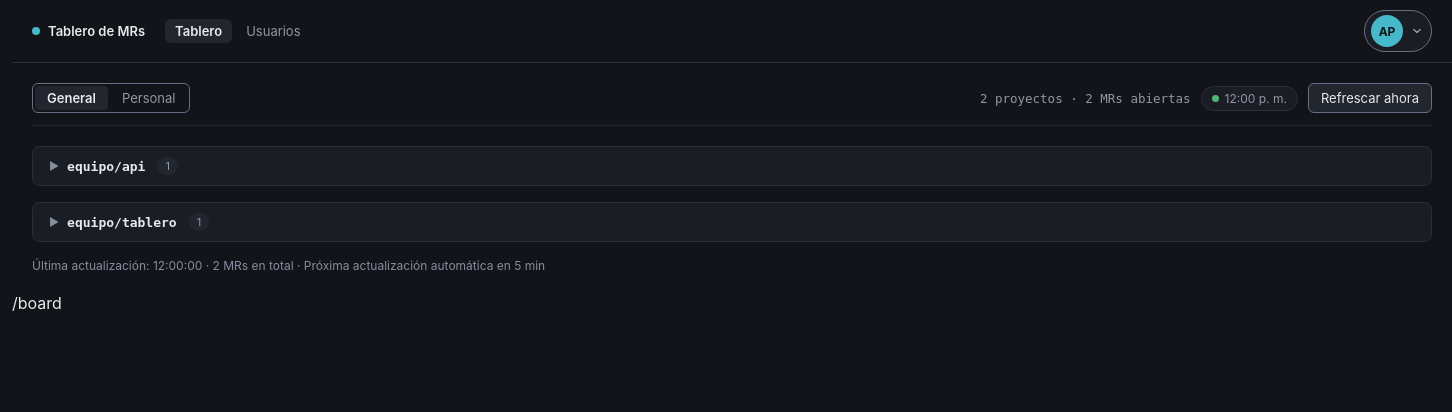
Scenario: vista personal de un administrador › muestra un estado vacío cuando la persona no tiene tareas
Step 1. Click the button "Personal" → (149, 98), box [110,86,188,110]
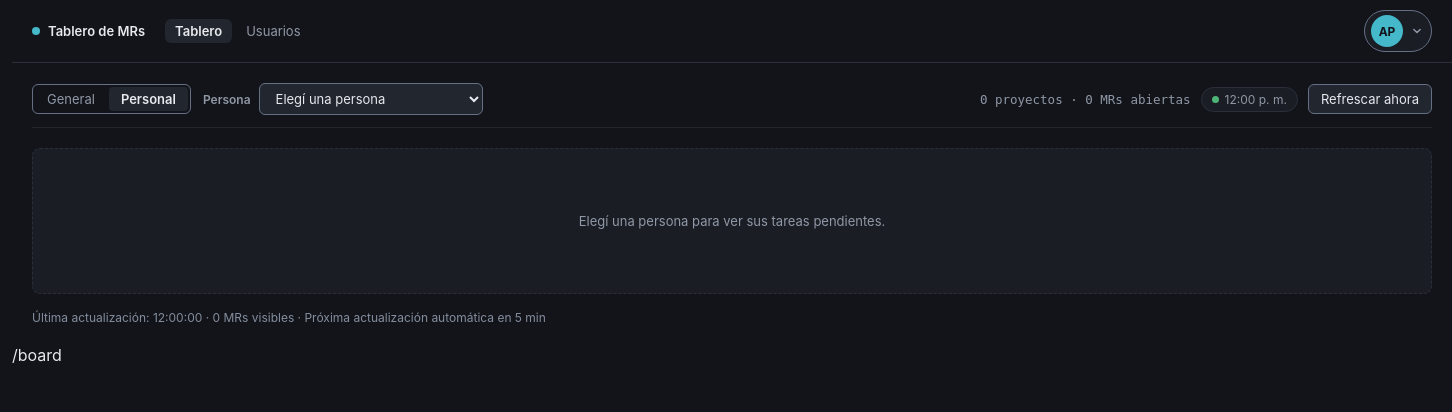
Step 2. Select "Beto Ruiz (@beto)" in the dropdown labelled "Persona" → (371, 99), box [259,83,483,115]
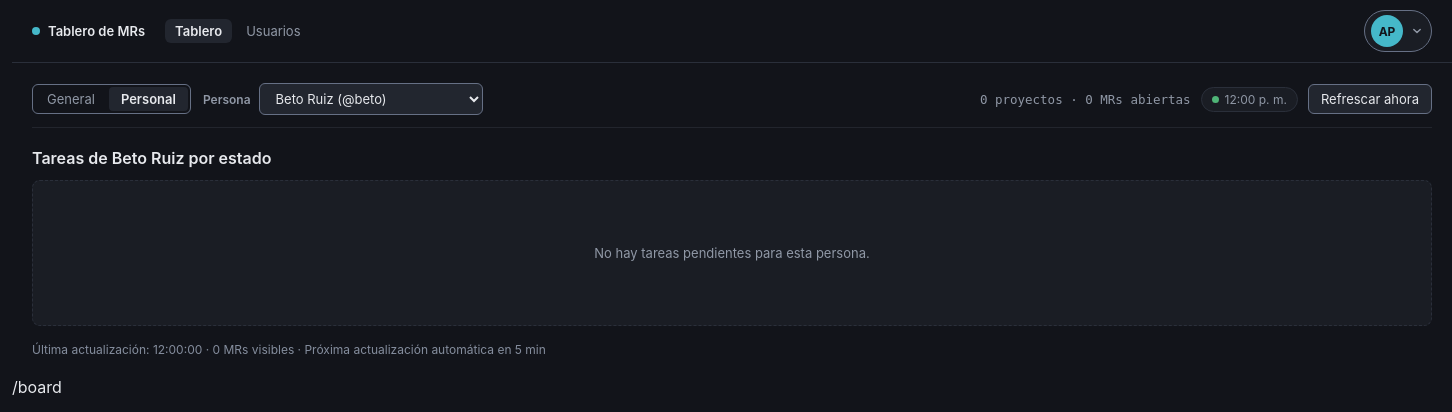
Result: the message "No hay tareas pendientes para esta persona." is shown at [32,180,1432,326]
